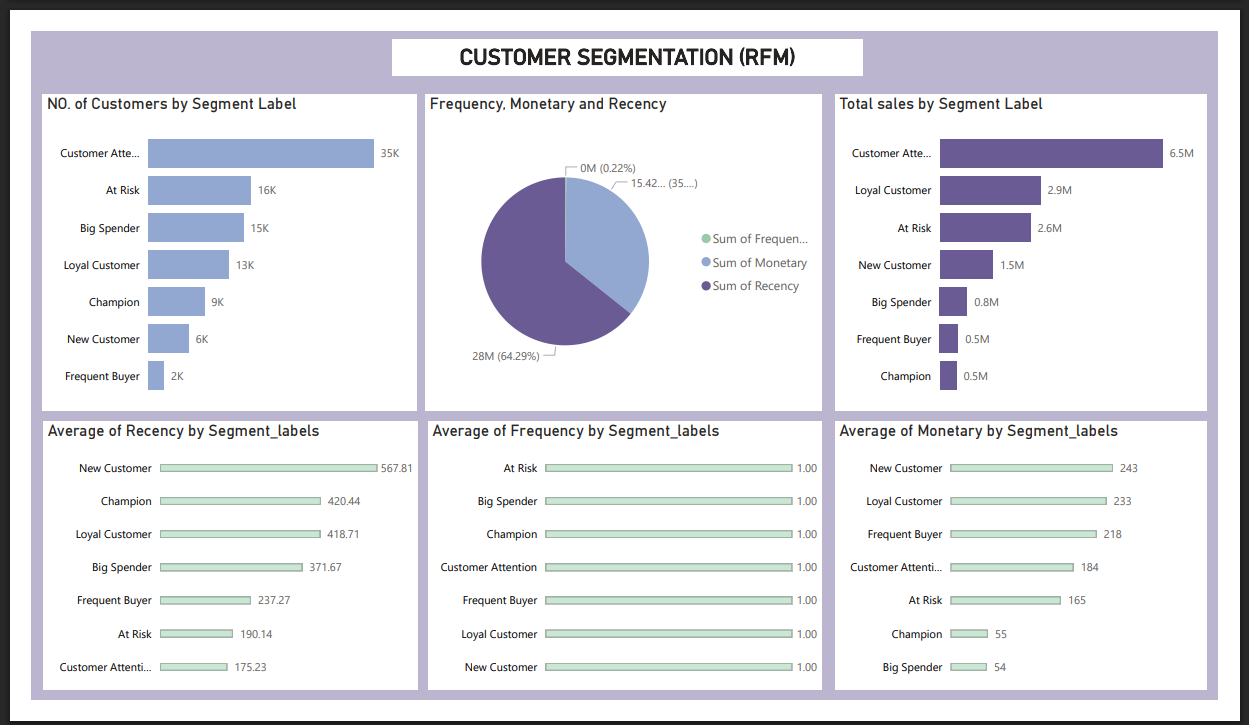

Layout of this report page (visuals, bound fields, positions):
{"tool":"powerbi","page":{"name":"Page 2","canvas":[1280,720],"ordinal":1},"visuals":[{"type":"barChart","title":"NO. of Customers by Segment Label","fields":{"Category":["RFM.Customer_labels"],"Y":["CountNonNull(RFM.customer_id)"]},"box":[12,68,404,341.3],"z":0},{"type":"barChart","title":"Total sales by Segment Label","fields":{"Category":["RFM.Customer_labels"],"Y":["Sum(RFM.Monetary)"]},"box":[866.7,68,401.3,341.3],"z":1000},{"type":"pieChart","title":"Frequency, Monetary and Recency","fields":{"Y":["Sum(RFM.Frequency)","Sum(RFM.Monetary)","Sum(RFM.Recency)"]},"box":[425.3,68,428,341.3],"z":2000},{"type":"barChart","fields":{"Category":["RFM.Segment_labels"],"Y":["Avg(RFM.Recency)"]},"box":[13.3,420,404,289.3],"z":3000},{"type":"barChart","fields":{"Category":["RFM.Segment_labels"],"Y":["Avg(RFM.Frequency)"]},"box":[428,420,425.3,289.3],"z":4000},{"type":"barChart","fields":{"Category":["RFM.Segment_labels"],"Y":["Avg(RFM.Monetary)"]},"box":[866.7,420,401.3,289.3],"z":5000},{"type":"textbox","box":[389.3,9.3,508,38.7],"z":6000}]}

Visuals, with their boxes on the page's 1280x720 design canvas (x1, y1, x2, y2). These are canvas units, not pixel positions in the 1249x725 screenshot, which may show the page scaled, cropped or inside an application window:
"NO. of Customers by Segment Label" barChart: Rect(12, 68, 416, 409)
"Total sales by Segment Label" barChart: Rect(867, 68, 1268, 409)
"Frequency, Monetary and Recency" pieChart: Rect(425, 68, 853, 409)
barChart - RFM.Segment_labels x Avg(RFM.Recency): Rect(13, 420, 417, 709)
barChart - RFM.Segment_labels x Avg(RFM.Frequency): Rect(428, 420, 853, 709)
barChart - RFM.Segment_labels x Avg(RFM.Monetary): Rect(867, 420, 1268, 709)
textbox: Rect(389, 9, 897, 48)
